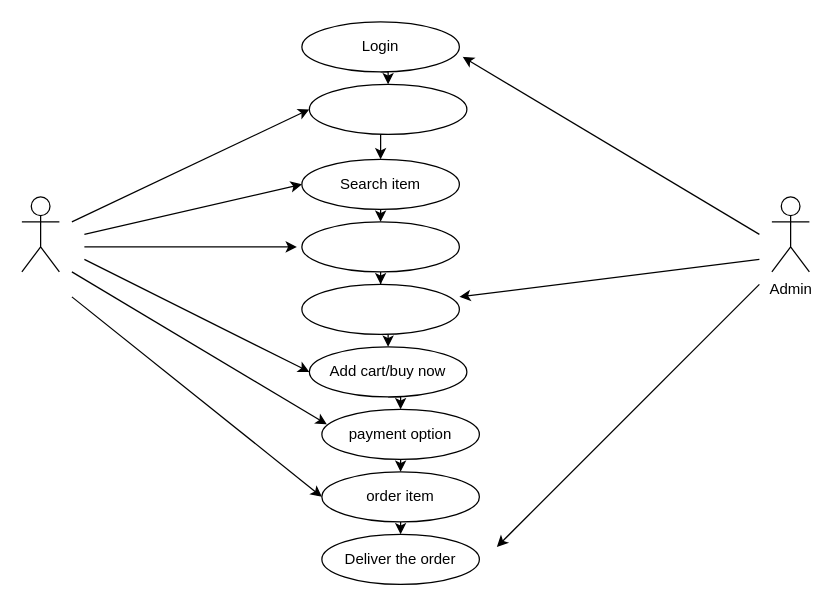
Some shapes in this 834 by 606 pixel diagram are drawn without their labels. The centre of each missing label's shape, as x and y in pixels:
signup/register: the point at 387,108
update/Manage item: the point at 380,308
user: the point at 40,234
View item: the point at 380,246
